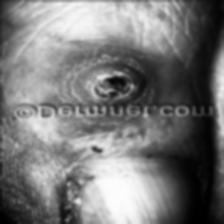Toxin: (69, 127, 144, 164), (77, 72, 149, 102)
